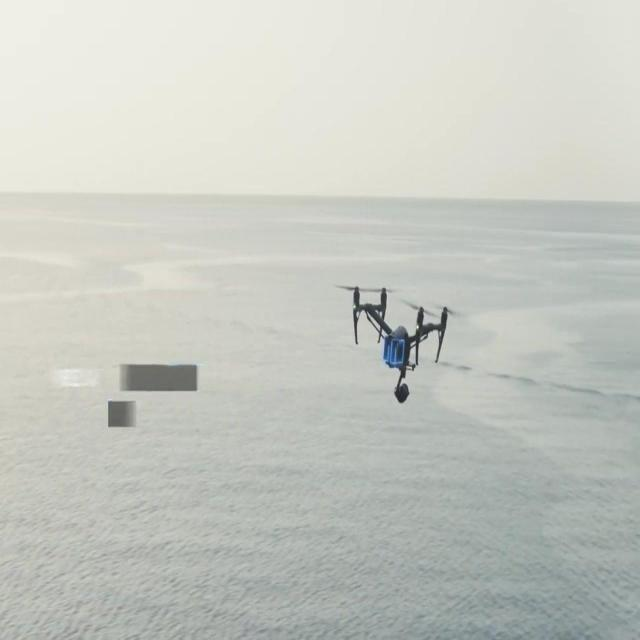drone: (348, 281, 453, 408)
